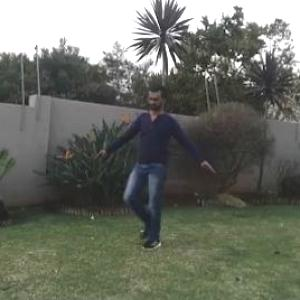land: (105, 94, 213, 231)
